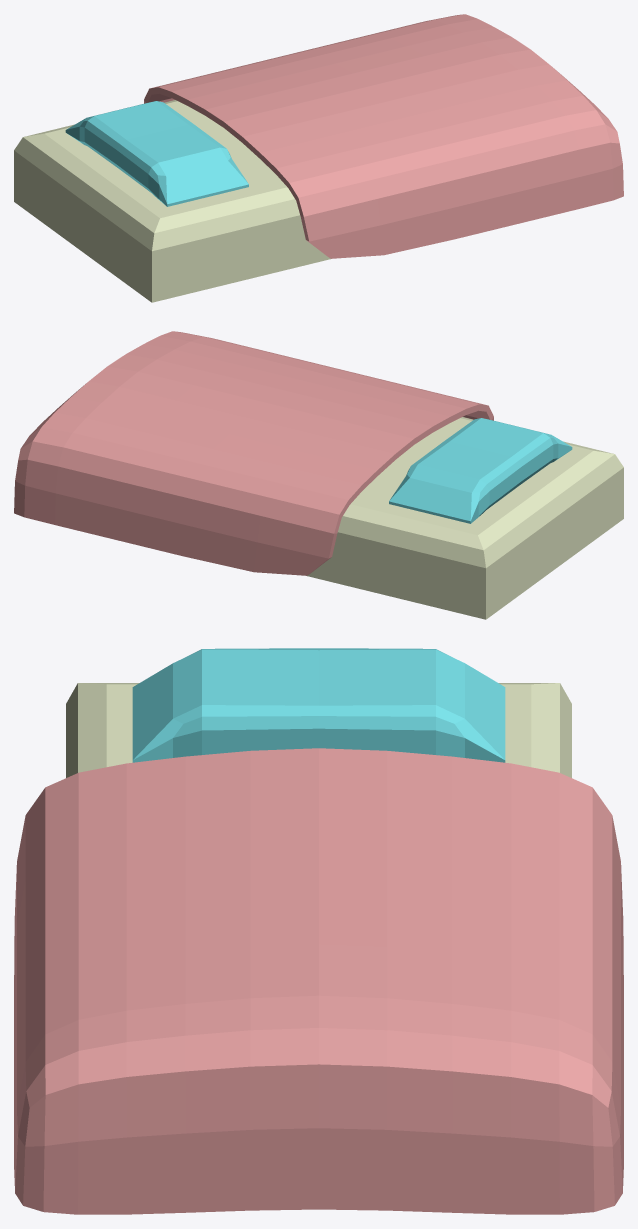
The model's file is bed.fbx.
The picture shows the model from 3 angles, top to bottom: view 1: azimuth 30°, elevation 25°; view 2: azimuth 150°, elevation 25°; view 3: azimuth 270°, elevation 25°; orthographic projection. The views are drawn at different scales.
Parts seen in each view (by area): view 1: Cube.002, Cube, Cube.001; view 2: Cube.002, Cube, Cube.001; view 3: Cube.002, Cube.001, Cube.
Boxes of the visible parts, x1,y1,x2,y2 form: Cube.002: (144, 14, 623, 258); Cube: (14, 100, 330, 302); Cube.001: (65, 101, 248, 206); Cube.002: (14, 331, 493, 575); Cube: (307, 417, 623, 619); Cube.001: (389, 418, 572, 523); Cube.002: (14, 748, 623, 1214); Cube.001: (132, 648, 505, 762); Cube: (66, 683, 571, 777).
Size of the model in its own units: 716 by 151 by 444.
